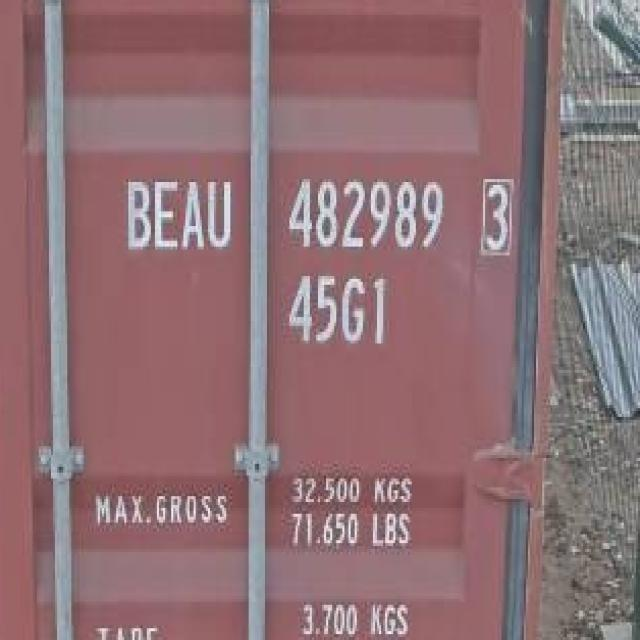dv: (474, 166, 517, 261)
owner: (114, 167, 238, 265)
serial: (281, 164, 458, 264)
size: (283, 268, 402, 354)
